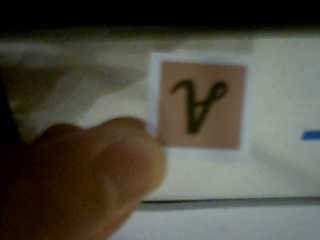A: (155, 59, 248, 152)
